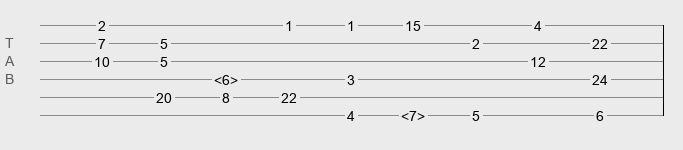1: (285, 18, 293, 28), (347, 18, 355, 28)
10: (94, 54, 110, 64)
12: (530, 54, 546, 64)
15: (405, 18, 421, 28)
2: (98, 18, 106, 28), (472, 36, 480, 46)
20: (156, 90, 172, 100)
22: (281, 90, 297, 100), (592, 36, 608, 46)
24: (592, 72, 608, 82)
3: (347, 72, 355, 82)
4: (347, 108, 355, 118), (534, 18, 542, 28)
5: (160, 36, 168, 46), (160, 54, 168, 64), (472, 108, 480, 118)
6: (596, 108, 604, 118)
7: (98, 36, 106, 46)
8: (222, 90, 230, 100)
harmonic: (214, 72, 238, 82), (401, 108, 425, 118)
